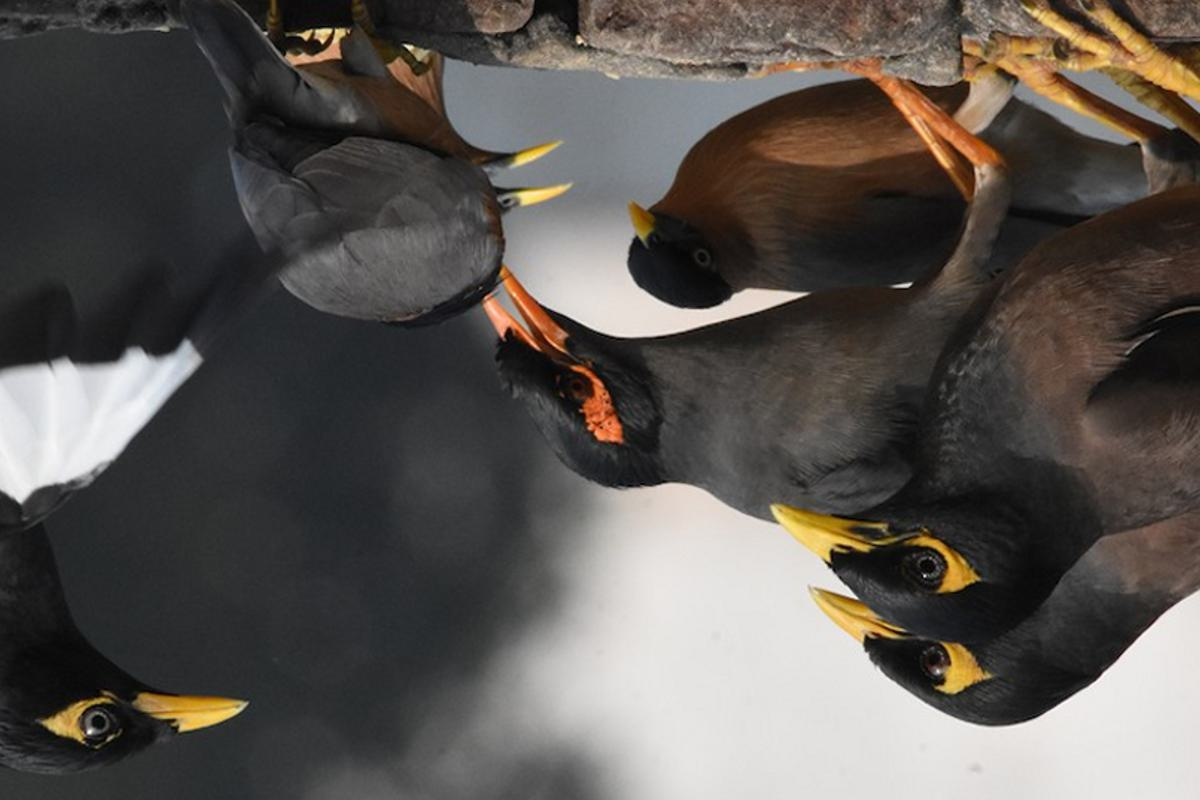myna: (753, 144, 1200, 610), (793, 568, 1200, 795), (1, 541, 268, 756)
